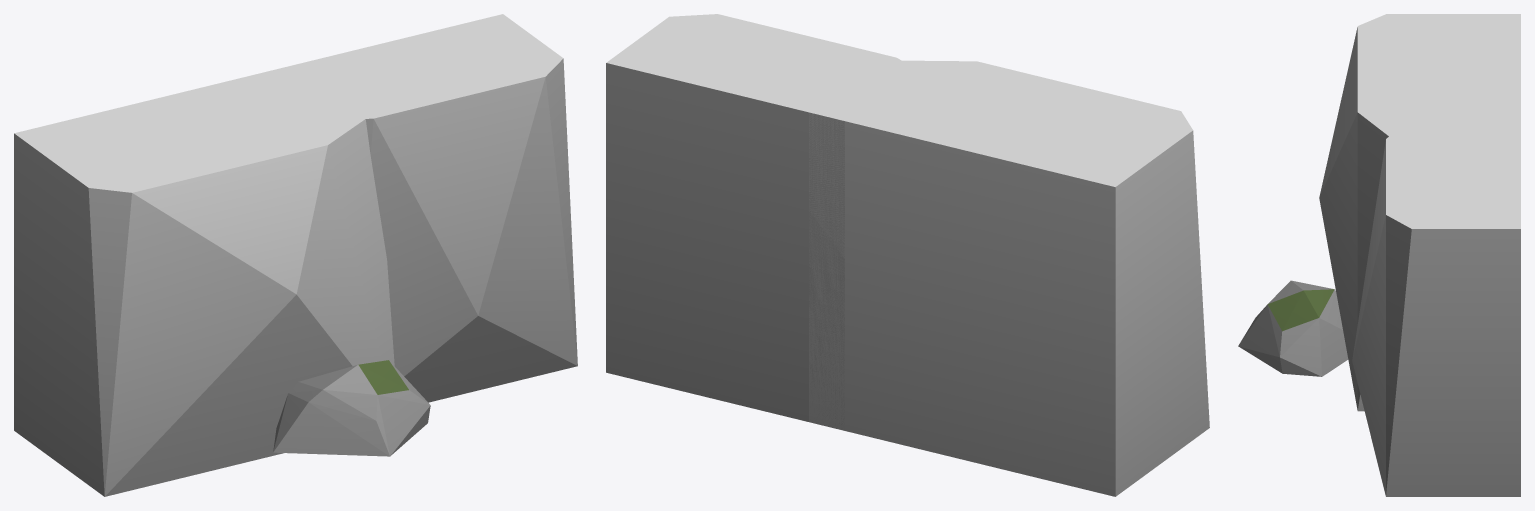
3 views of the same model, side by side, from view 1: azimuth 30°, elevation 25°; view 2: azimuth 150°, elevation 25°; view 3: azimuth 270°, elevation 25° (orthographic). The views are drawn at different scales.
Visible parts, largest first — view 1: rk_ch1_1; view 2: rk_ch1_1; view 3: rk_ch1_1.
Boxes of the visible parts, x1,y1,x2,y2 form: rk_ch1_1: (14,14,577,496); rk_ch1_1: (606,14,1209,496); rk_ch1_1: (1238,14,1520,496).
Bounding box in the file's own units: 18.07 × 10.5 × 10.04.
